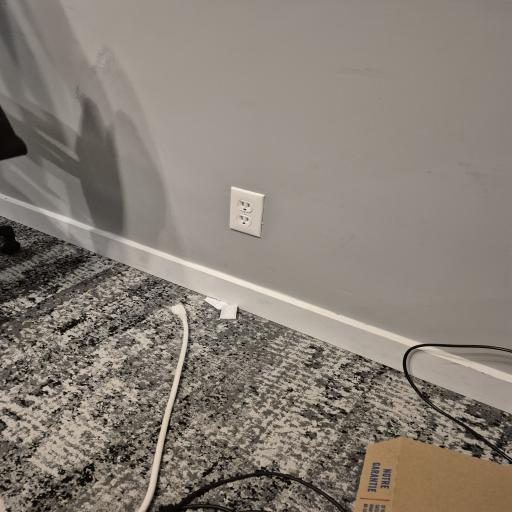outlet: (229, 185, 263, 239)
